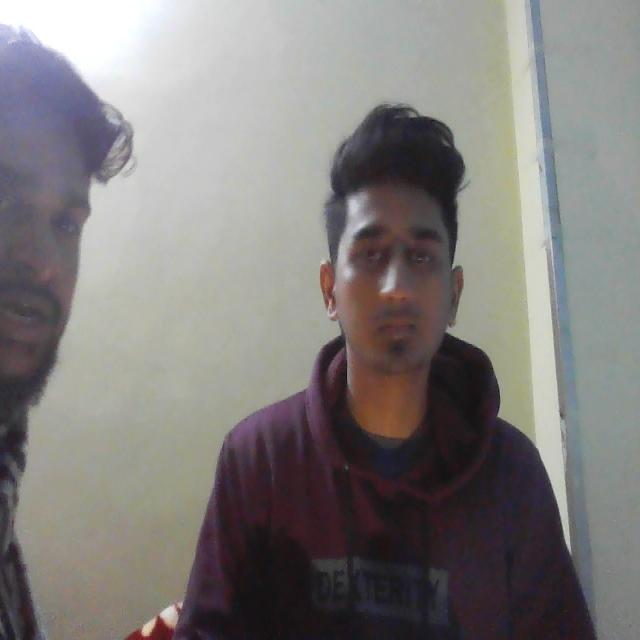real: (326, 133, 468, 403)
